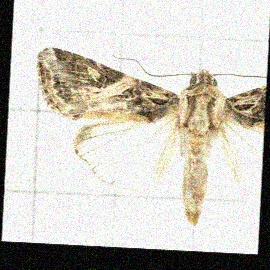Spodoptera litura: (31, 51, 263, 224)
